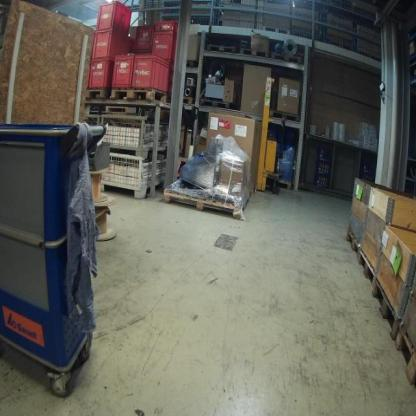pallets: (341, 224, 416, 385), (170, 172, 261, 226), (73, 82, 196, 114), (204, 40, 311, 69), (94, 176, 168, 206)
